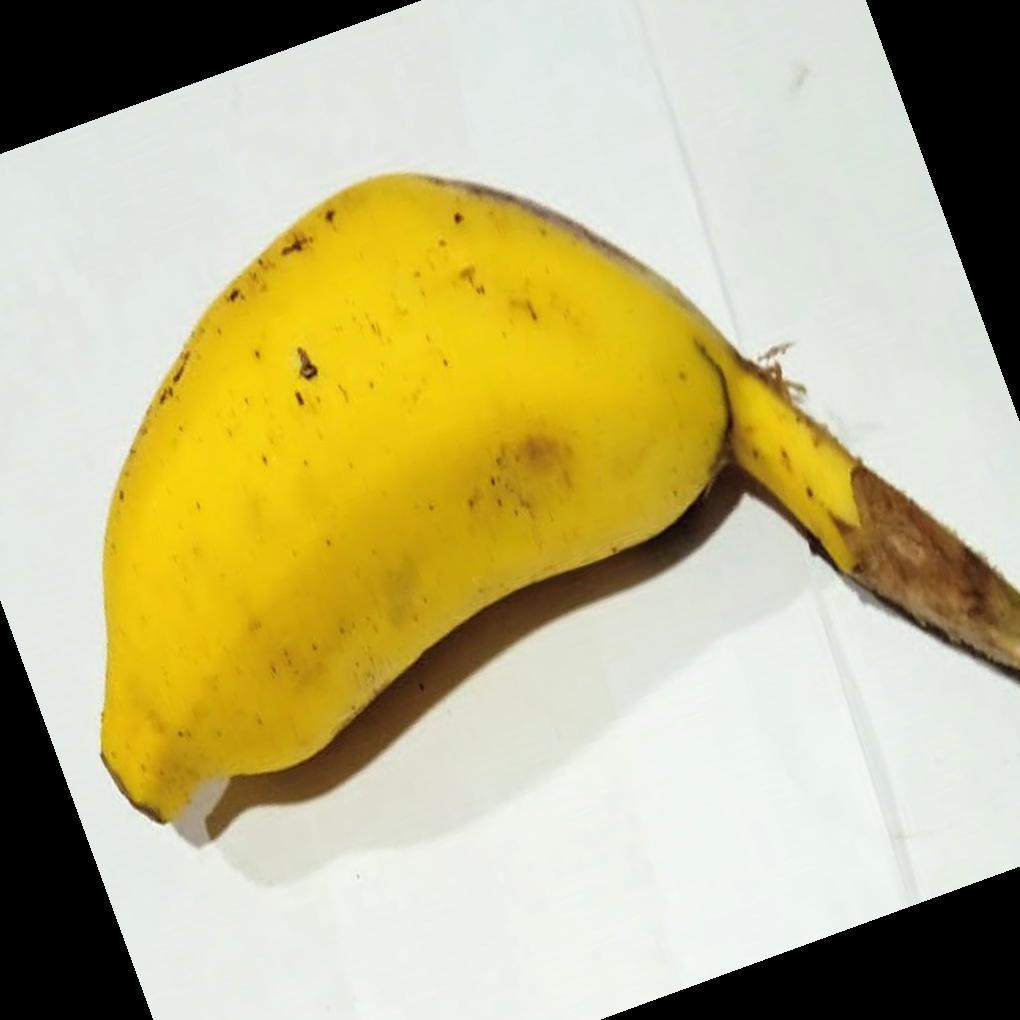Banana Ripe: (99, 154, 1019, 863)
